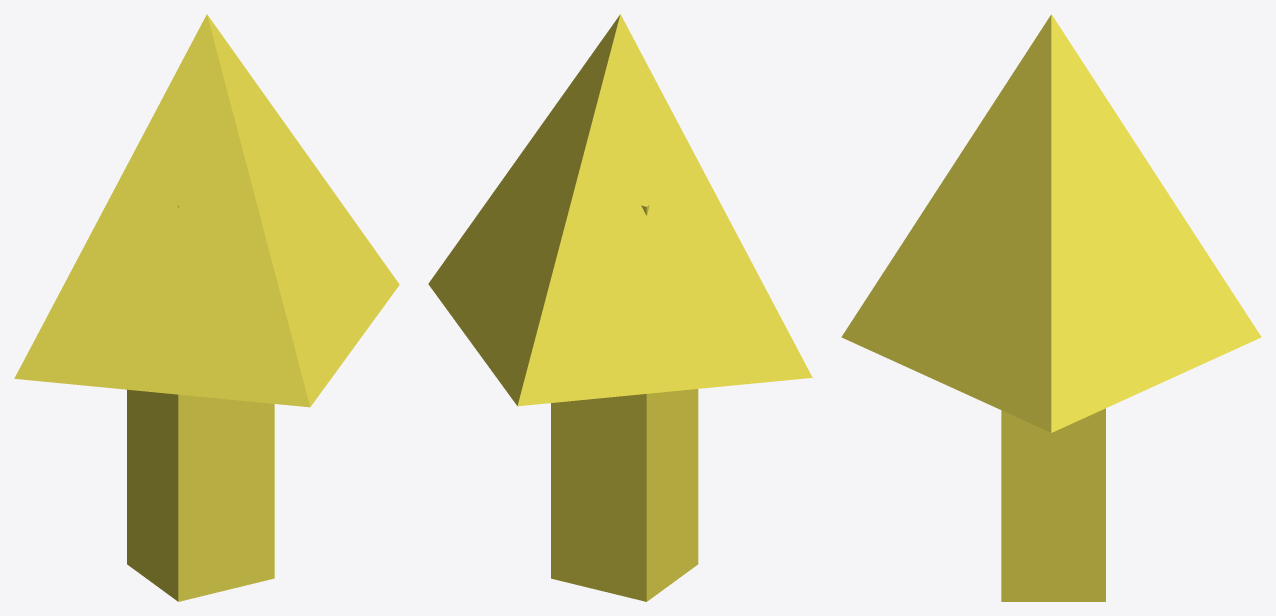
The model's file is pine-yellow-low.glb.
3 renders of one model, left to right at view 1: azimuth 30°, elevation 25°; view 2: azimuth 150°, elevation 25°; view 3: azimuth 270°, elevation 25°, orthographic. The views are drawn at different scales.
Parts seen in each view (by area): view 1: 立方体; view 2: 立方体; view 3: 立方体.
Boxes of the visible parts, bbox=[...] form: 立方体: bbox=[14, 14, 399, 601]; 立方体: bbox=[428, 14, 812, 601]; 立方体: bbox=[841, 14, 1261, 601].
Size of the model in its own units: 1.96 by 2.7 by 1.82.
